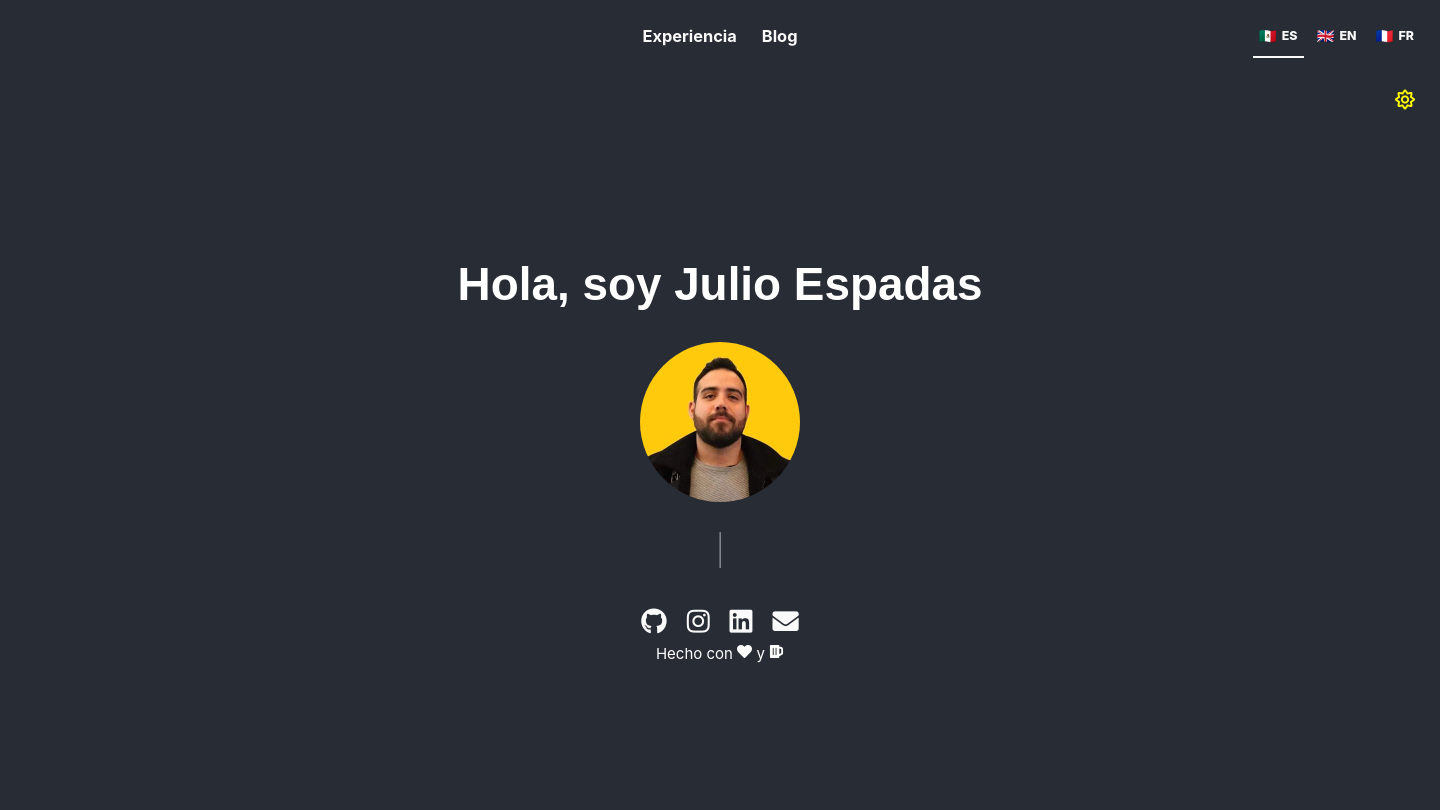
App › navigates to the professional experience page
This screenshot has width=1440, height=810.
Click the button "Experiencia". click: {"x": 690, "y": 38}
box: [642, 15, 737, 60]
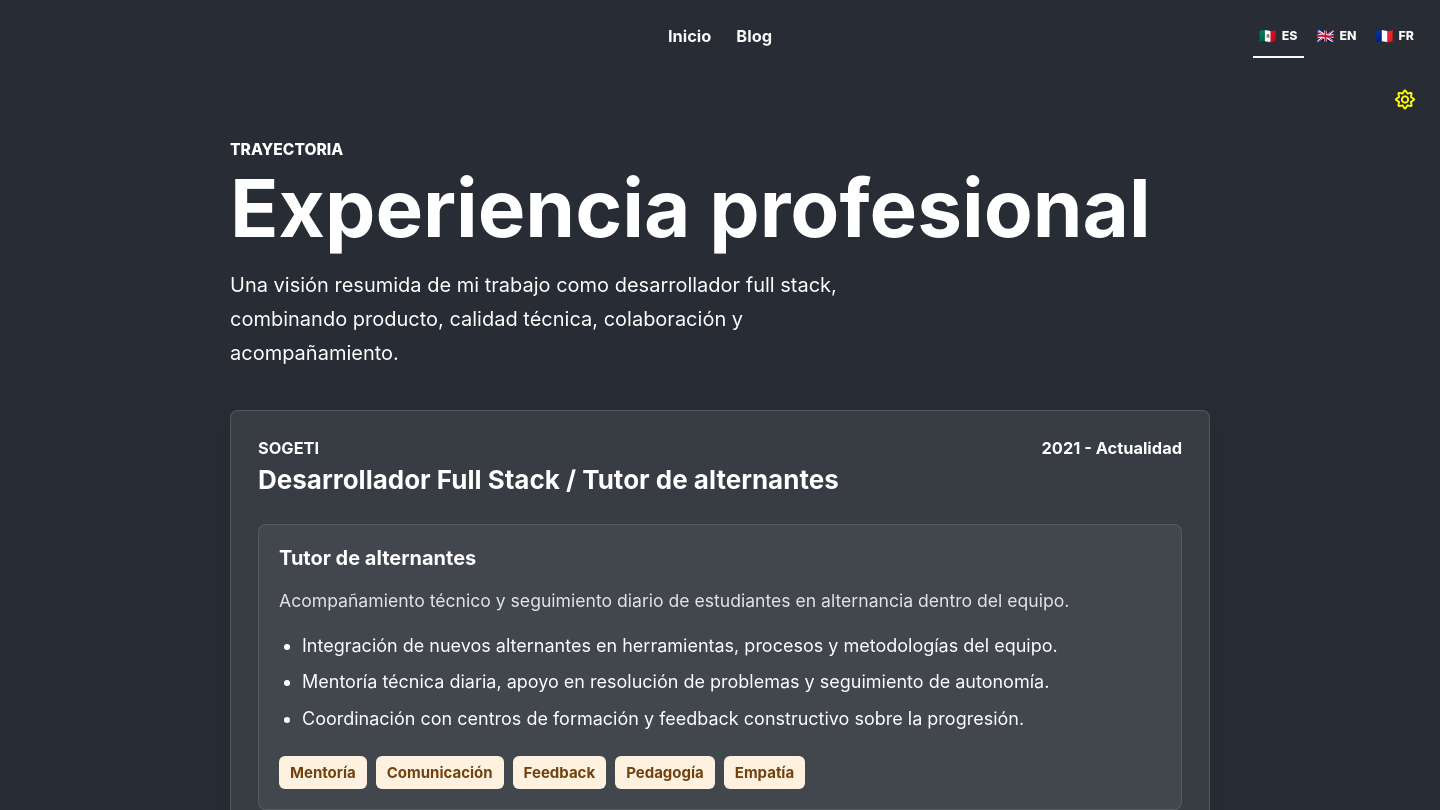
Expected: the heading "Experiencia profesional" is shown, [230, 168, 1210, 248]
Expected: the text "Sogeti" is shown, [258, 438, 319, 458]
Expected: the button "Inicio" is shown, [668, 15, 711, 60]
